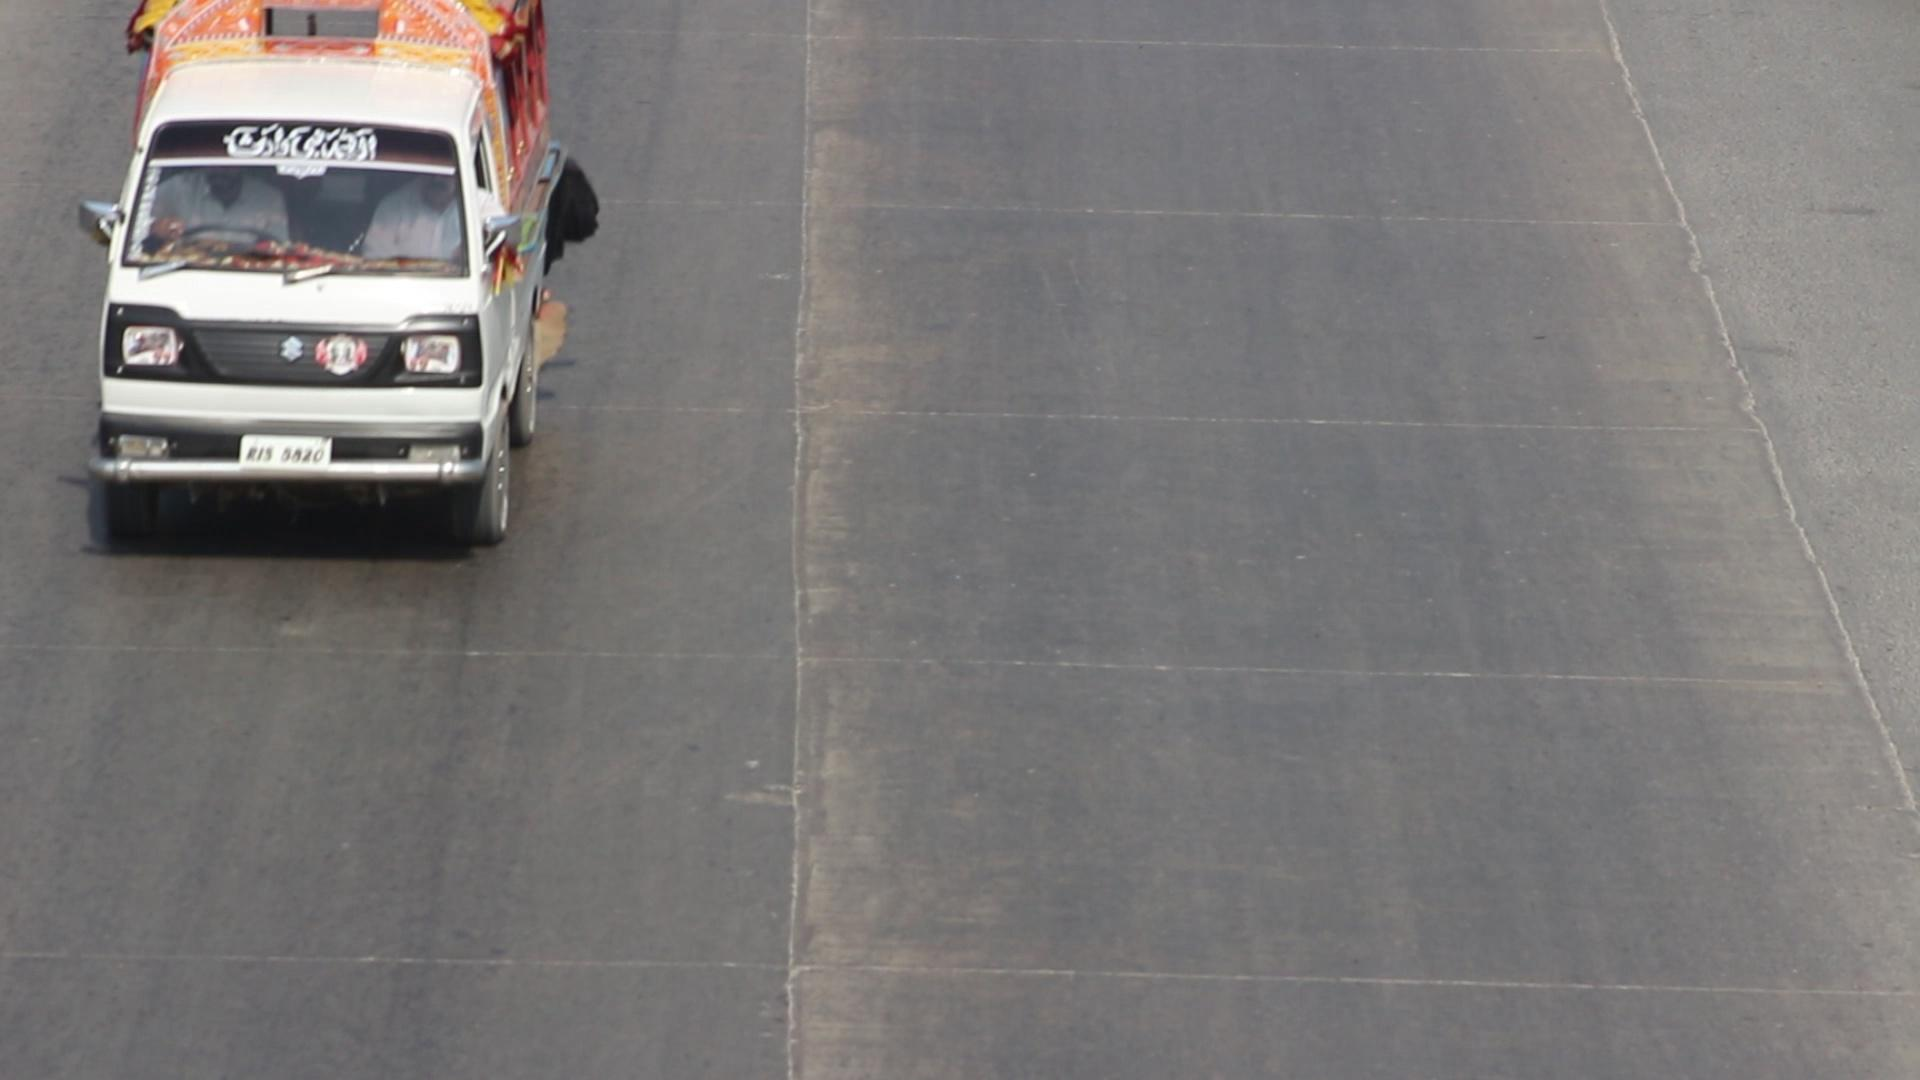windshield: (111, 107, 477, 273)
